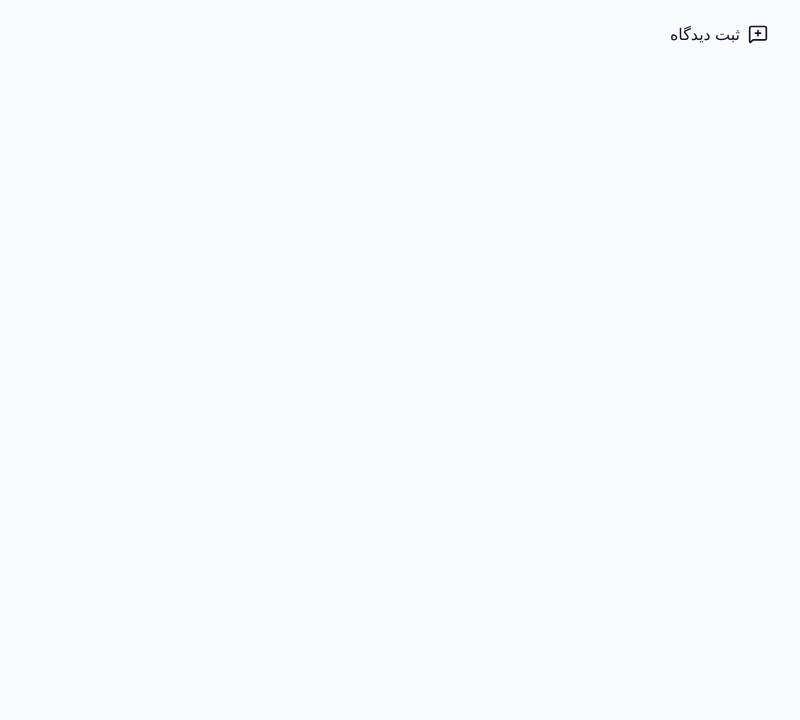
CommentComposer for reviews › goes away when the switch is turned off meanwhile (503)
Click the button "ثبت دیدگاه" at x=719, y=34, box [650, 12, 788, 56]
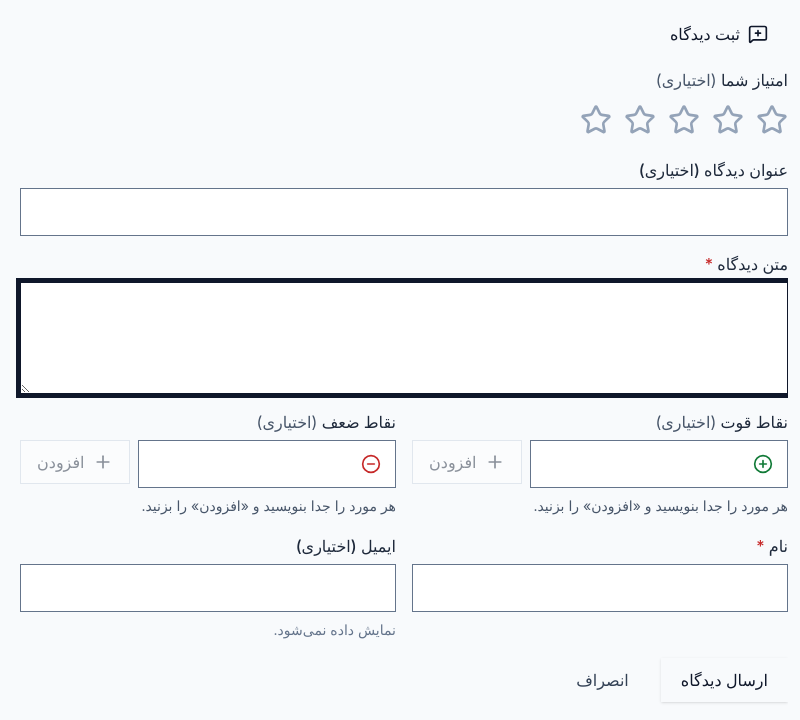
Type "عالی" into the text box labelled "متن دیدگاه *" at x=404, y=338, box [20, 282, 788, 394]
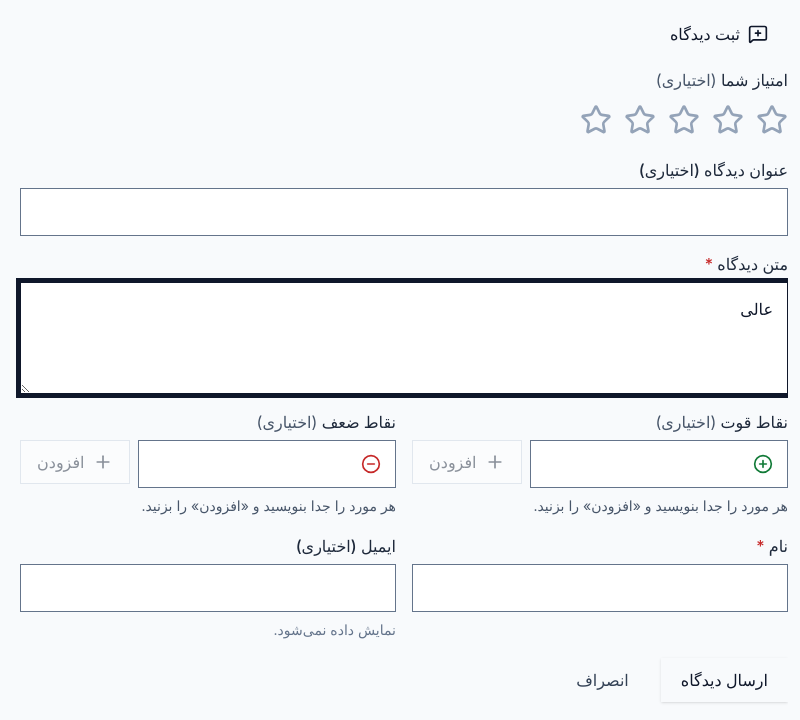
Type "سارا" into the field named "نام (" at x=600, y=588, box [413, 565, 787, 611]
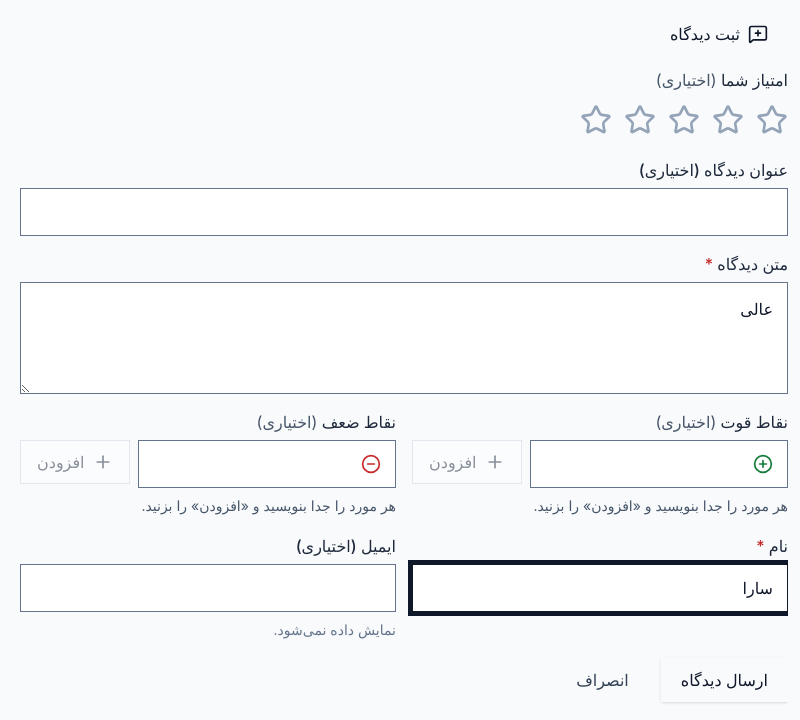
Click the button "ارسال دیدگاه" at x=724, y=680, box [661, 658, 788, 702]
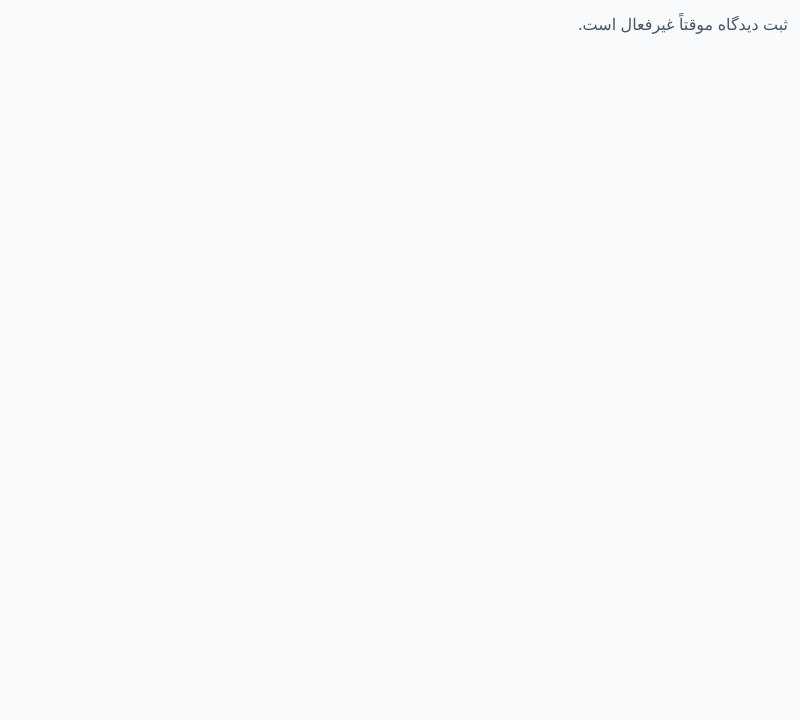
Result: the form is gone
Result: the text "ثبت دیدگاه موقتاً غیرفعال است." is shown at [578, 14, 788, 34]
